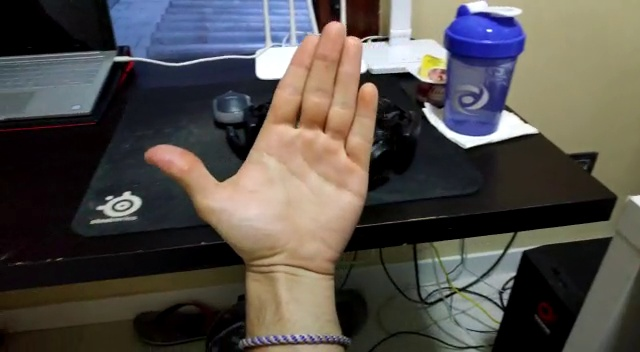Palm: (141, 20, 381, 268)
